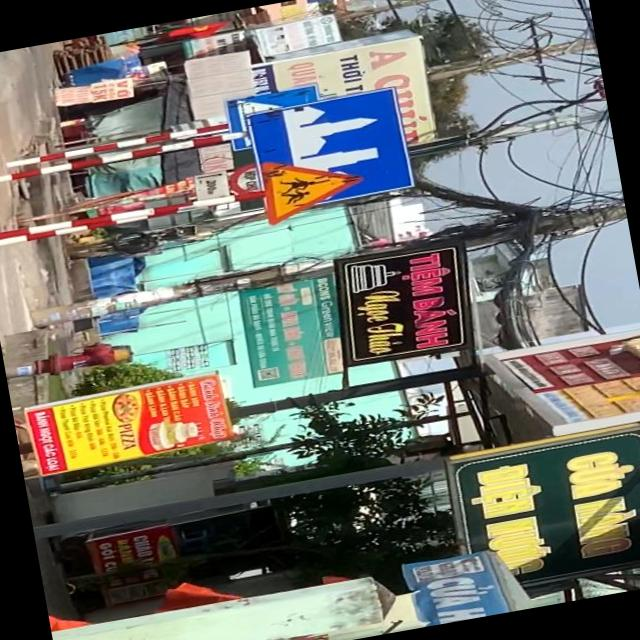W-225: (257, 147, 368, 226)
